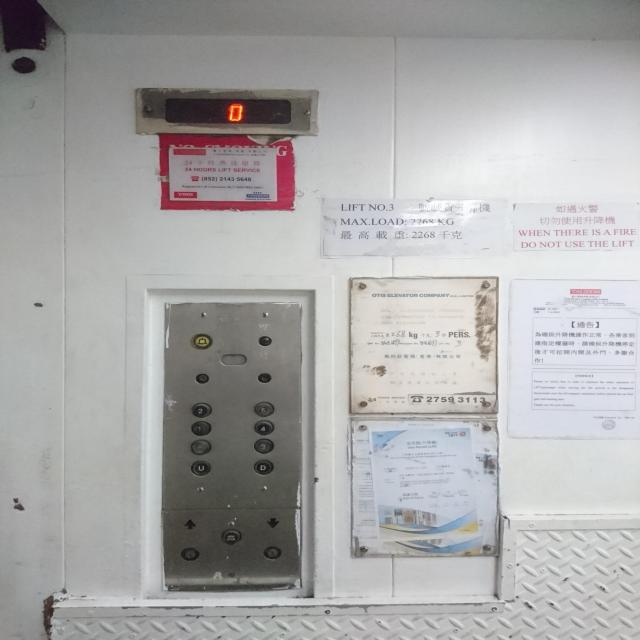0: (190, 440, 212, 455)
1: (190, 421, 211, 436)
2: (191, 402, 211, 418)
3: (253, 438, 275, 455)
4: (253, 420, 274, 436)
5: (253, 400, 275, 418)
D: (253, 458, 274, 475)
U: (189, 459, 212, 477)
alarm: (191, 333, 213, 350)
keyhole: (180, 546, 200, 562), (263, 545, 282, 561), (195, 373, 209, 384), (257, 373, 272, 383)
led: (164, 96, 292, 126)
text: (222, 529, 241, 544)
